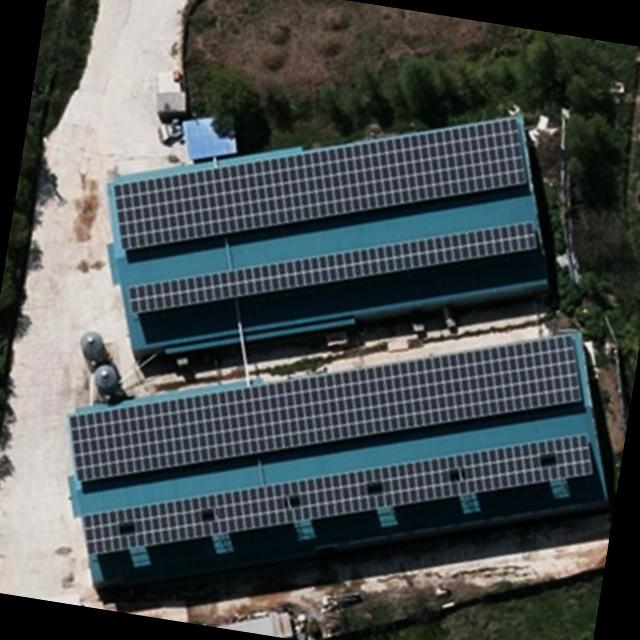solar: (59, 254, 592, 555), (76, 357, 598, 630), (100, 56, 536, 311), (124, 160, 547, 374)
